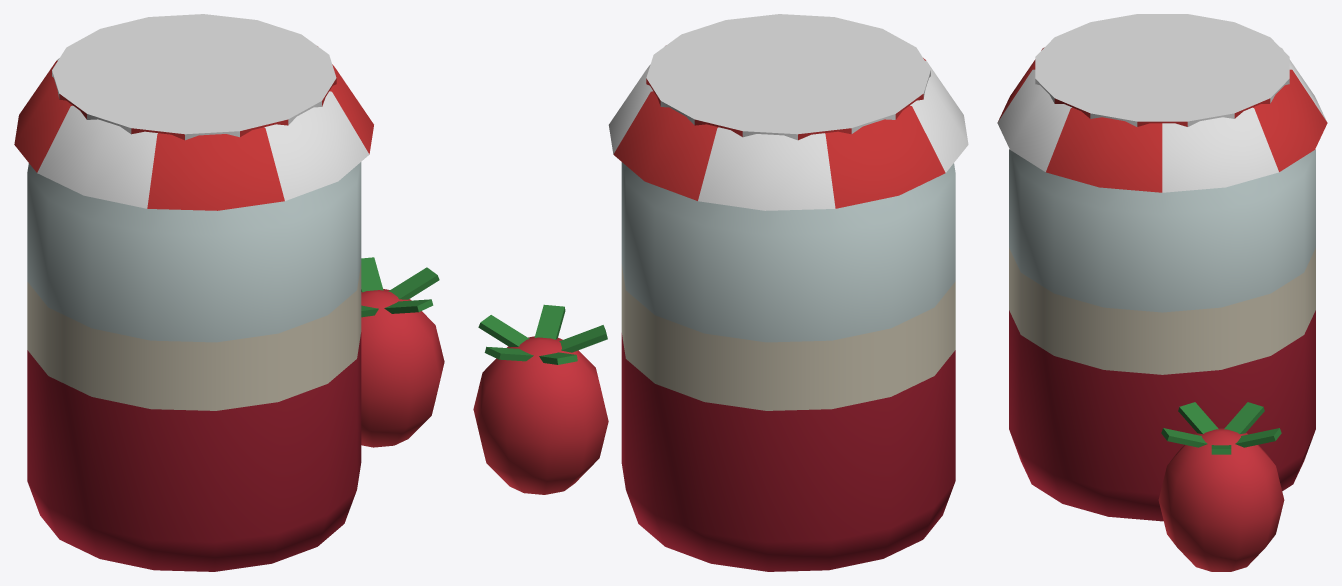
File: kitchen-deco3.glb
3 views of the same model, side by side, from view 1: azimuth 30°, elevation 25°; view 2: azimuth 150°, elevation 25°; view 3: azimuth 270°, elevation 25° (orthographic). The views are drawn at different scales.
Parts seen in each view (by area): view 1: kitchen-deco3; view 2: kitchen-deco3; view 3: kitchen-deco3.
Boxes of the visible parts, x1,y1,x2,y2 form: kitchen-deco3: (14, 14, 444, 571); kitchen-deco3: (473, 14, 968, 571); kitchen-deco3: (997, 14, 1327, 571).
Size of the model in its own units: 2.3 by 2.27 by 1.68.
